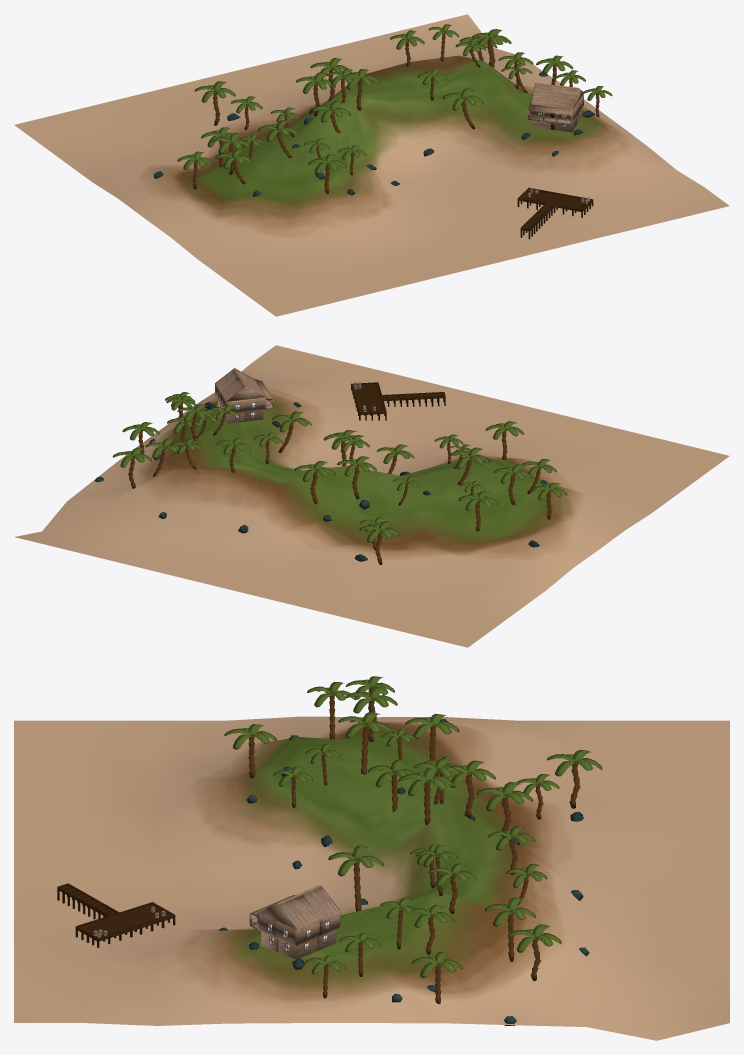
File: homebaseisland1.fbx
The picture shows the model from 3 angles, top to bottom: view 1: azimuth 30°, elevation 25°; view 2: azimuth 150°, elevation 25°; view 3: azimuth 270°, elevation 25°; orthographic projection. The views are drawn at different scales.
Parts seen in each view (by area): view 1: Island1; view 2: Island1; view 3: Island1.
Boxes of the visible parts, box(x1,y1,x2,y2) form: Island1: box(14, 14, 729, 316); Island1: box(15, 345, 729, 647); Island1: box(14, 676, 729, 1040).
Size of the model in its own units: 1447 by 273 by 1446.
